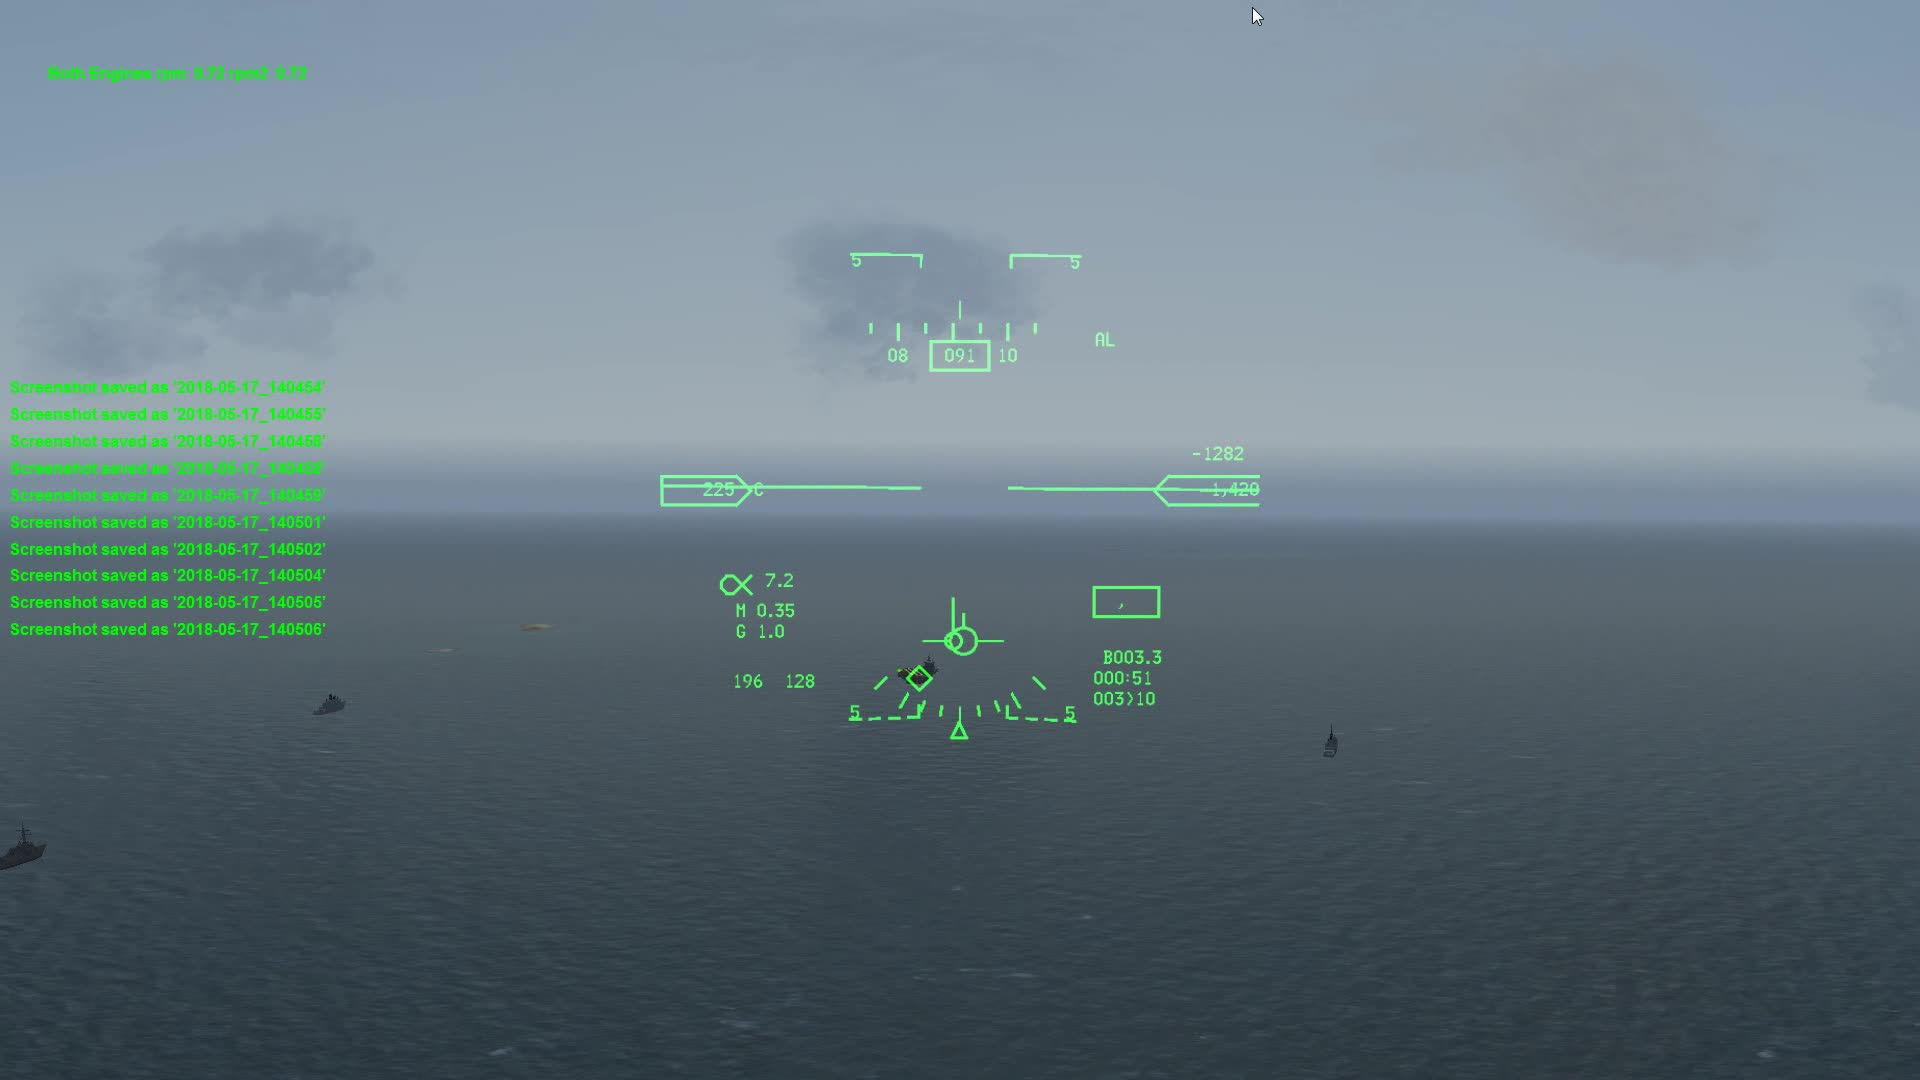speed vector: (918, 599, 1009, 655)
